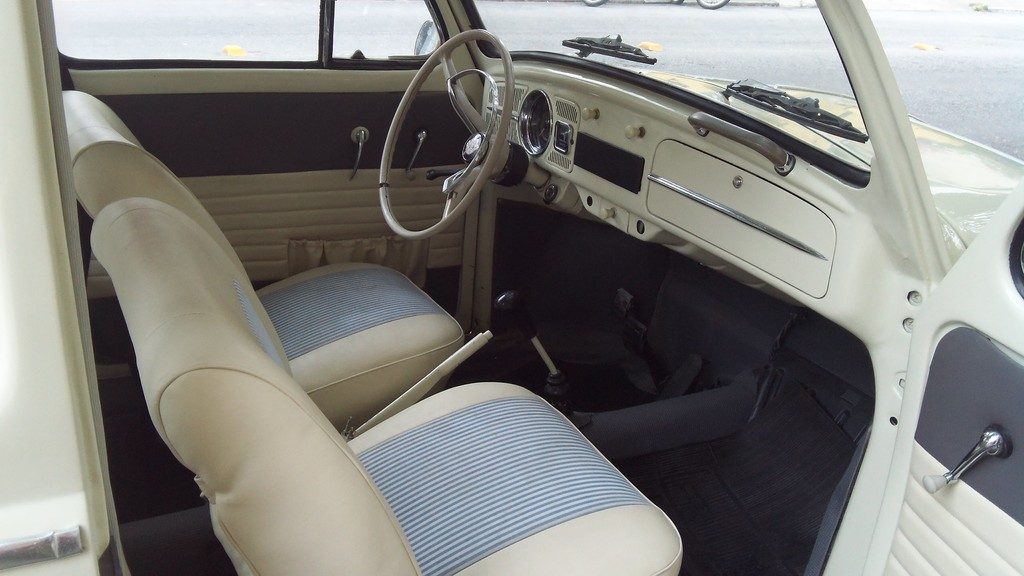Car: (157, 0, 1024, 557)
